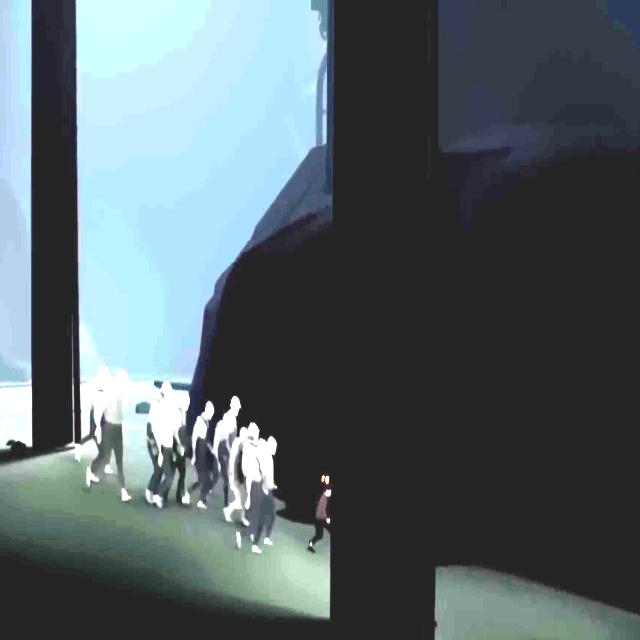boy: (308, 487, 332, 553)
zombie: (87, 370, 131, 500), (236, 439, 268, 553), (146, 382, 172, 504), (214, 395, 241, 508), (154, 393, 179, 507), (190, 401, 214, 507), (224, 427, 248, 523), (174, 390, 190, 504), (262, 437, 278, 545), (248, 422, 260, 446)
